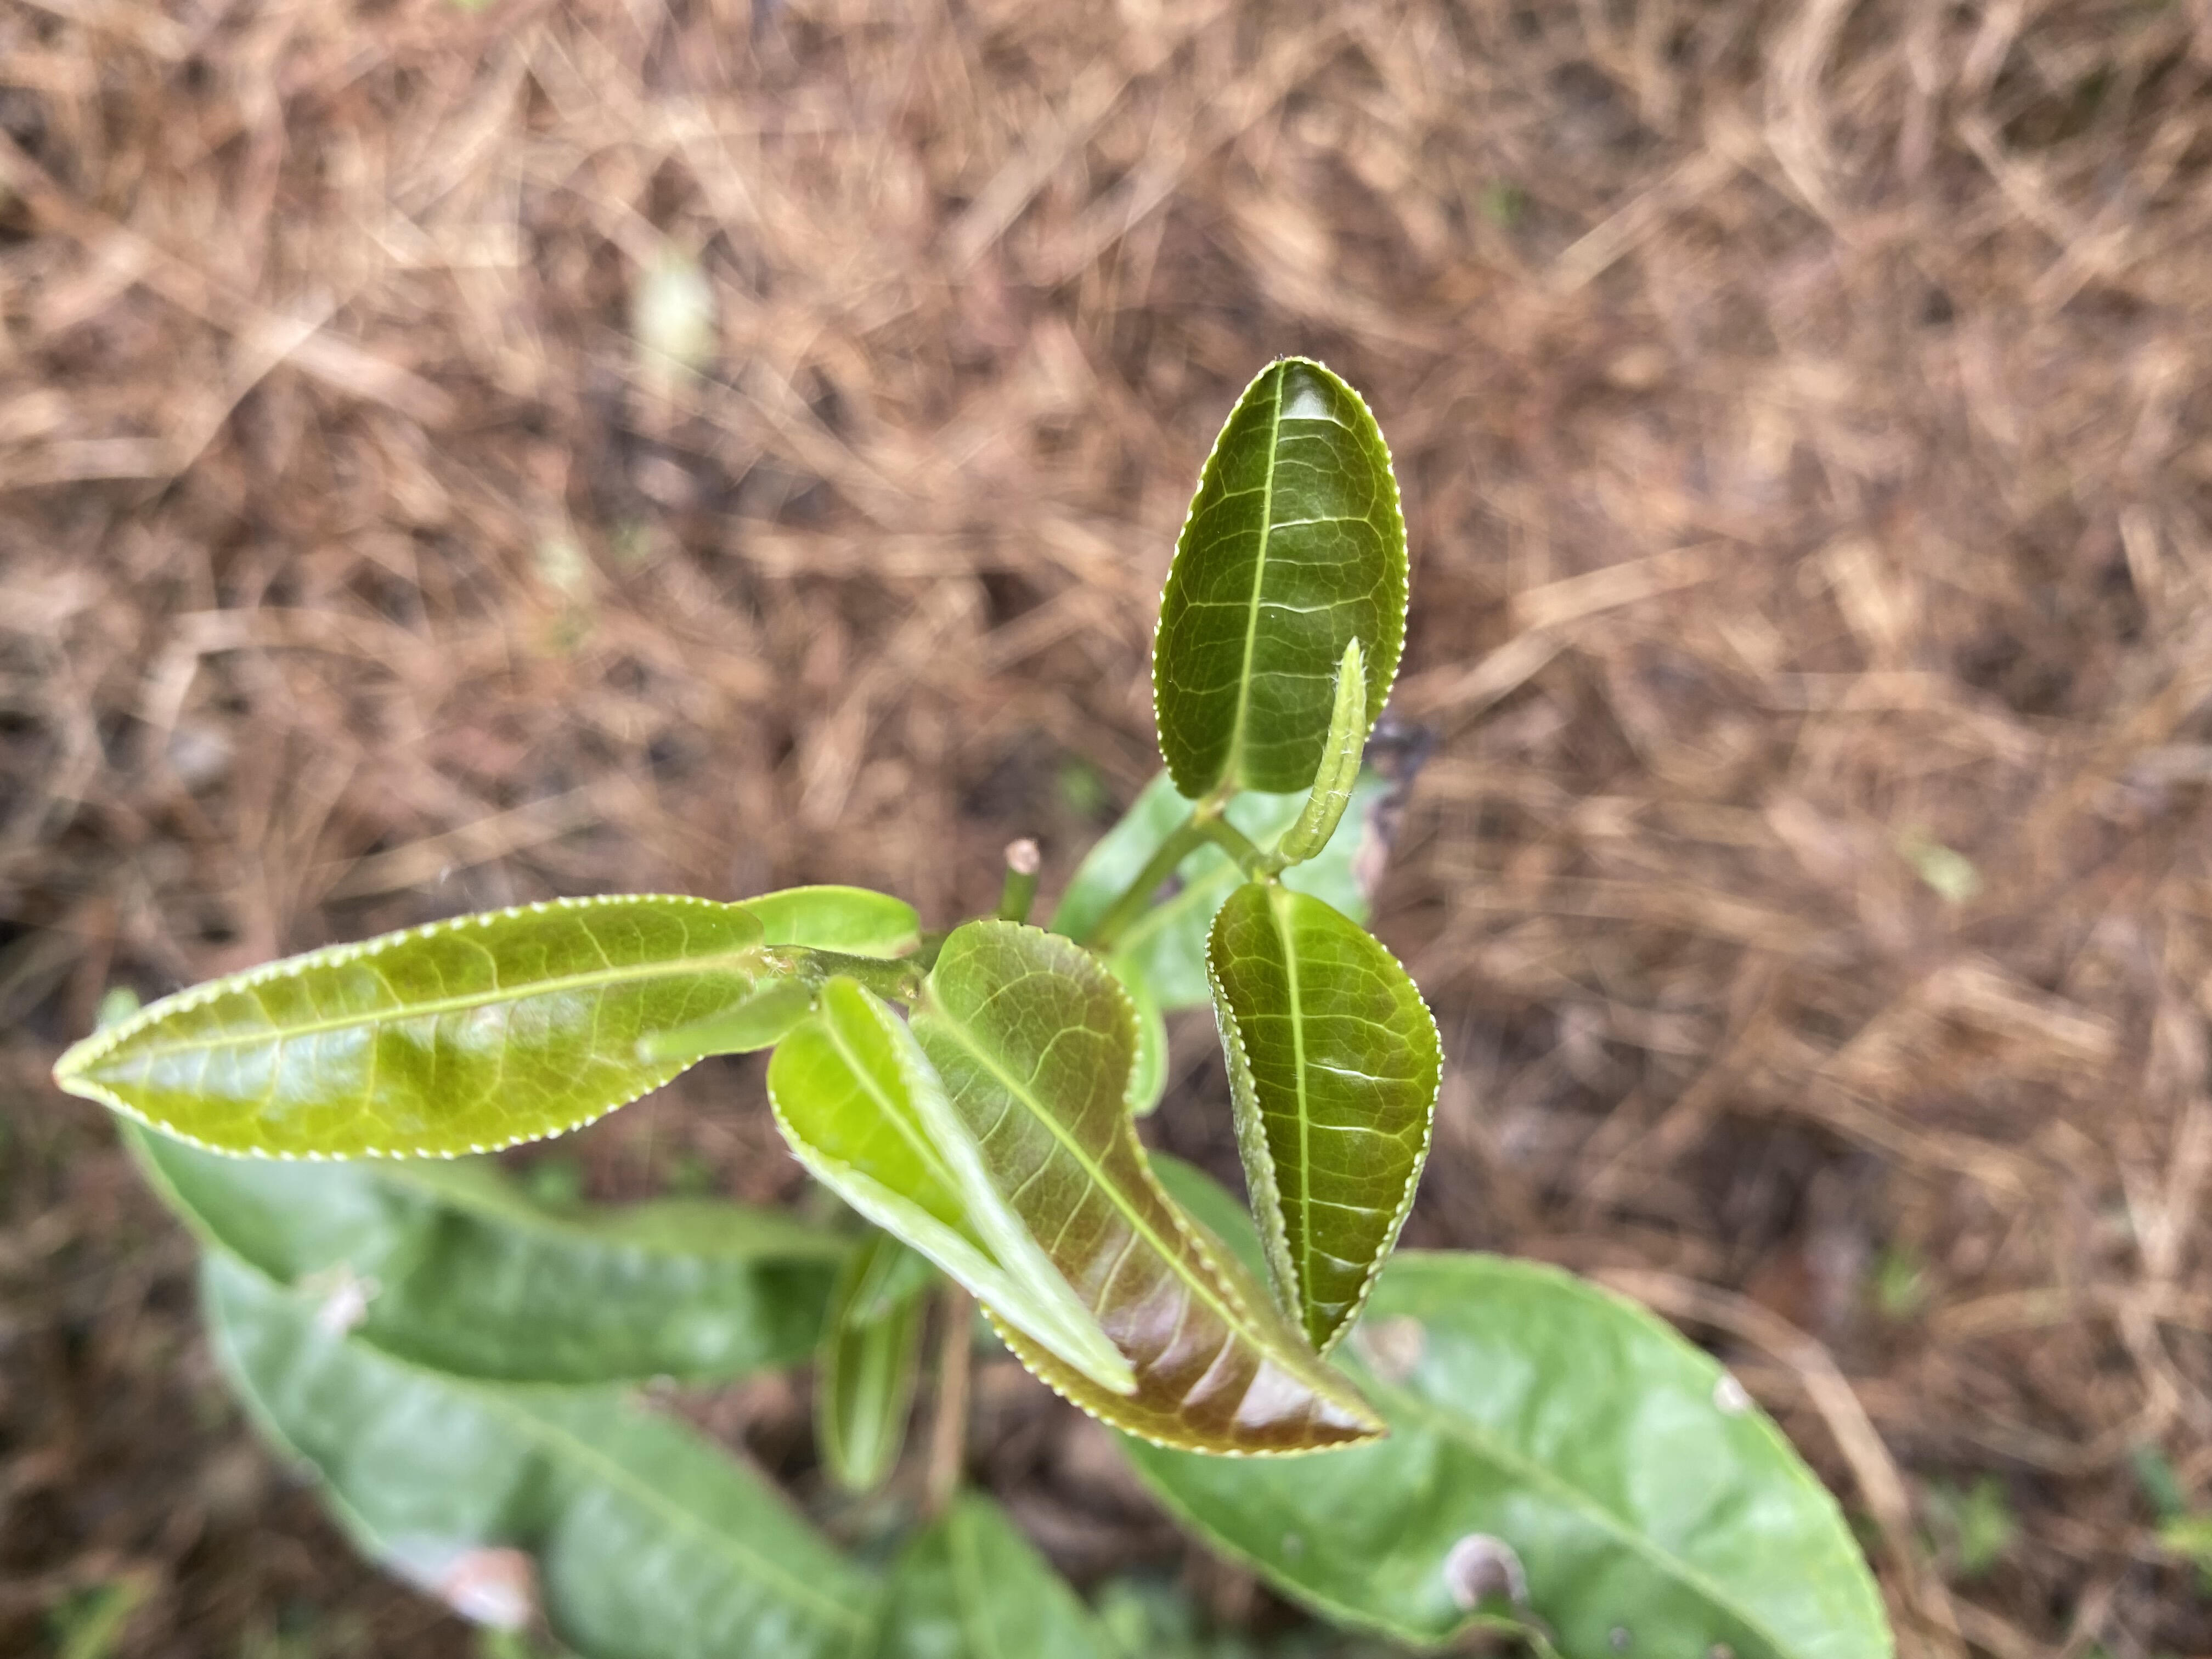healthy: (902, 915, 1388, 1455), (47, 890, 775, 1166), (1148, 354, 1413, 802), (1205, 880, 1447, 1361)
